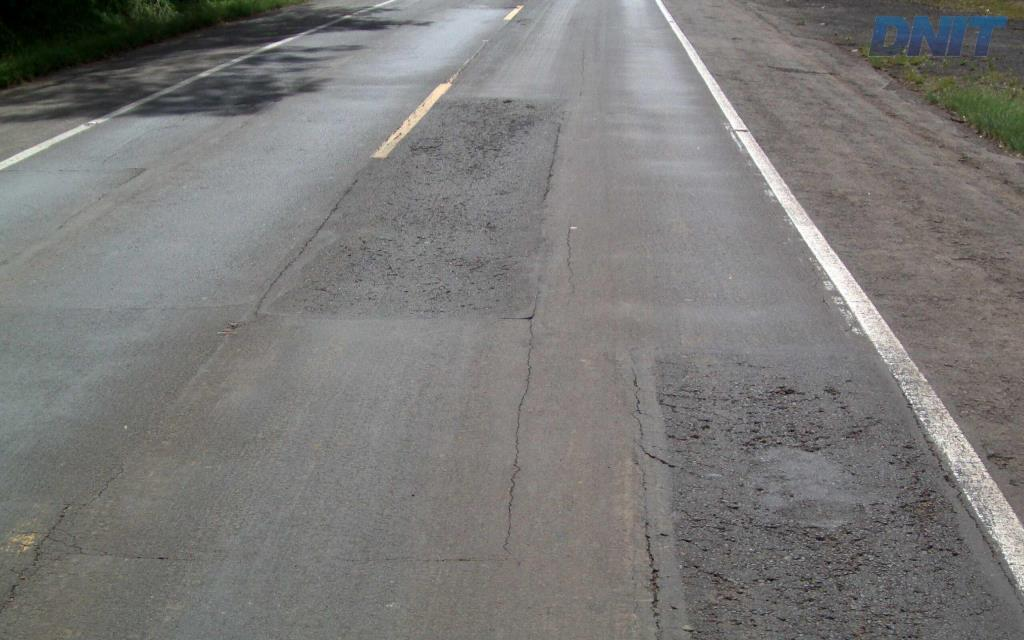crack: (899, 487, 948, 527), (644, 533, 658, 617)
